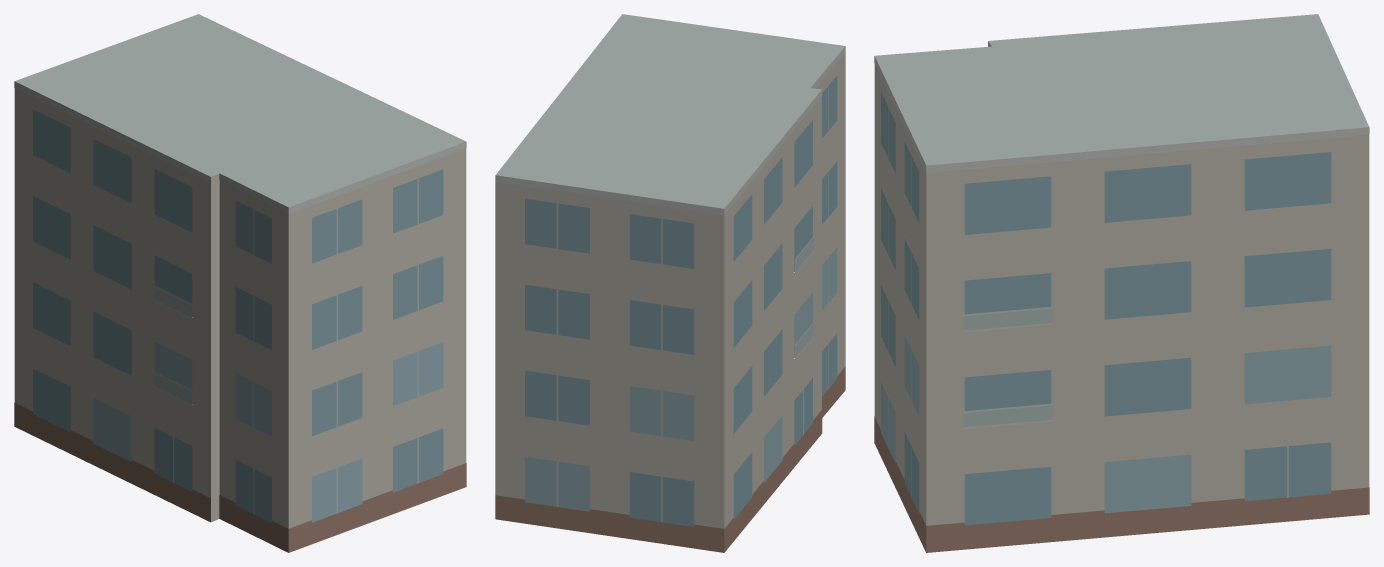
Rendered from survey-upis-32627979.glb.
3 renders of one model, left to right at view 1: azimuth 30°, elevation 25°; view 2: azimuth 150°, elevation 25°; view 3: azimuth 270°, elevation 25°, orthographic. The views are drawn at different scales.
Visible parts, largest first — view 1: survey-upis-32627979.tmp; view 2: survey-upis-32627979.tmp; view 3: survey-upis-32627979.tmp.
Boxes of the visible parts, box(x1,y1,x2,y2) form: survey-upis-32627979.tmp: box(14, 14, 466, 552); survey-upis-32627979.tmp: box(495, 14, 845, 552); survey-upis-32627979.tmp: box(874, 14, 1369, 552).
Bounding box in the file's own units: 10.67 × 12.7 × 14.72.
